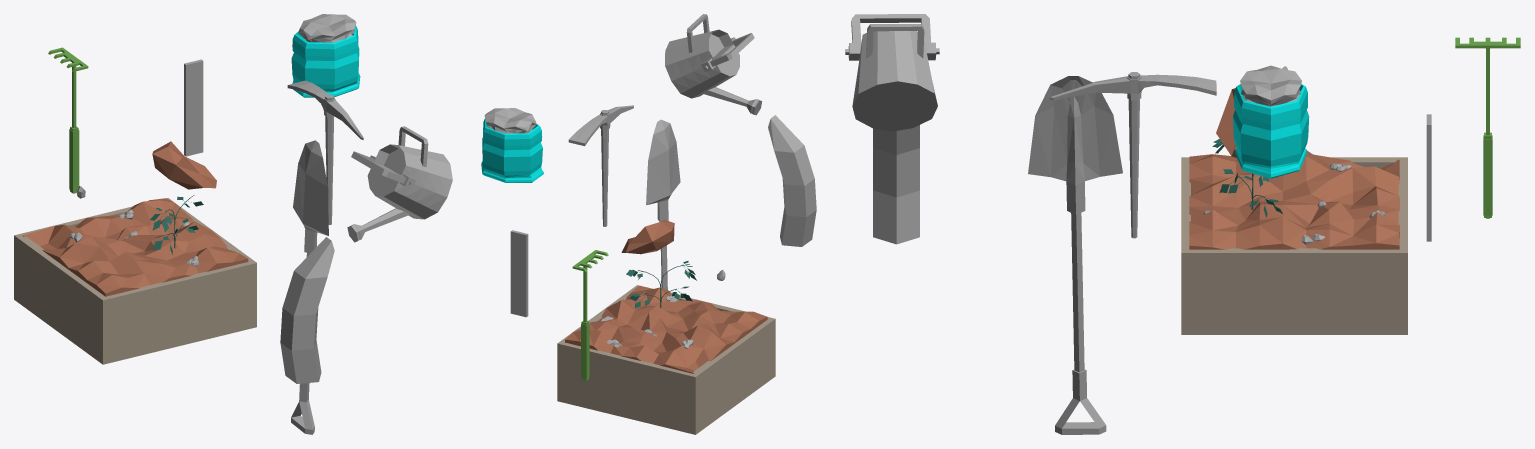
File: SW_Huerto.fbx
3 views of the same model, side by side, from view 1: azimuth 30°, elevation 25°; view 2: azimuth 150°, elevation 25°; view 3: azimuth 270°, elevation 25° (orthographic). The views are drawn at different scales.
Visible parts, largest first — view 1: Box:pCube1, Dirt_for_animation:dirt_mesh, Regadera, Agua, Pala, sack2:polySurface2, Regla, picote, Dirt_for_animation:small_dirt_mesh, Rastrillo3, sack2:tierra; view 2: Box:pCube1, Dirt_for_animation:dirt_mesh, Regadera, Agua, sack2:polySurface2, Pala, Regla, picote, Dirt_for_animation:small_dirt_mesh, Rastrillo3, sack2:tierra; view 3: Box:pCube1, Dirt_for_animation:dirt_mesh, Pala, Regadera, sack2:polySurface2, Agua, picote, sack2:tierra, Rastrillo3, Regla, Dirt_for_animation:small_dirt_mesh.
Boxes of the visible parts, x1,y1,x2,y2 form: Box:pCube1: (14,198,256,364); Dirt_for_animation:dirt_mesh: (23,198,248,296); Regadera: (347,126,452,242); Agua: (280,237,334,383); Pala: (291,140,328,434); sack2:polySurface2: (291,25,360,97); Regla: (184,59,203,156); picote: (287,80,363,224); Dirt_for_animation:small_dirt_mesh: (152,141,216,189); Rastrillo3: (48,47,88,193); sack2:tierra: (298,14,356,42); Box:pCube1: (557,285,775,434); Dirt_for_animation:dirt_mesh: (565,285,767,373); Regadera: (665,14,762,115); Agua: (768,115,816,246); sack2:polySurface2: (481,118,543,182); Pala: (646,119,680,289); Regla: (510,230,528,317); picote: (568,105,633,226); Dirt_for_animation:small_dirt_mesh: (621,220,674,254); Rastrillo3: (572,250,608,380); sack2:tierra: (484,108,536,133); Box:pCube1: (1181,157,1407,334); Dirt_for_animation:dirt_mesh: (1189,150,1399,249); Pala: (1028,76,1122,434); Regadera: (845,14,939,131); sack2:polySurface2: (1233,84,1309,178); Agua: (873,125,919,244); picote: (1049,72,1216,238); sack2:tierra: (1240,65,1301,106); Rastrillo3: (1455,37,1520,218); Regla: (1426,114,1431,241); Dirt_for_animation:small_dirt_mesh: (1216,88,1236,157).
Size of the model in its own units: 167 by 185 by 262.
